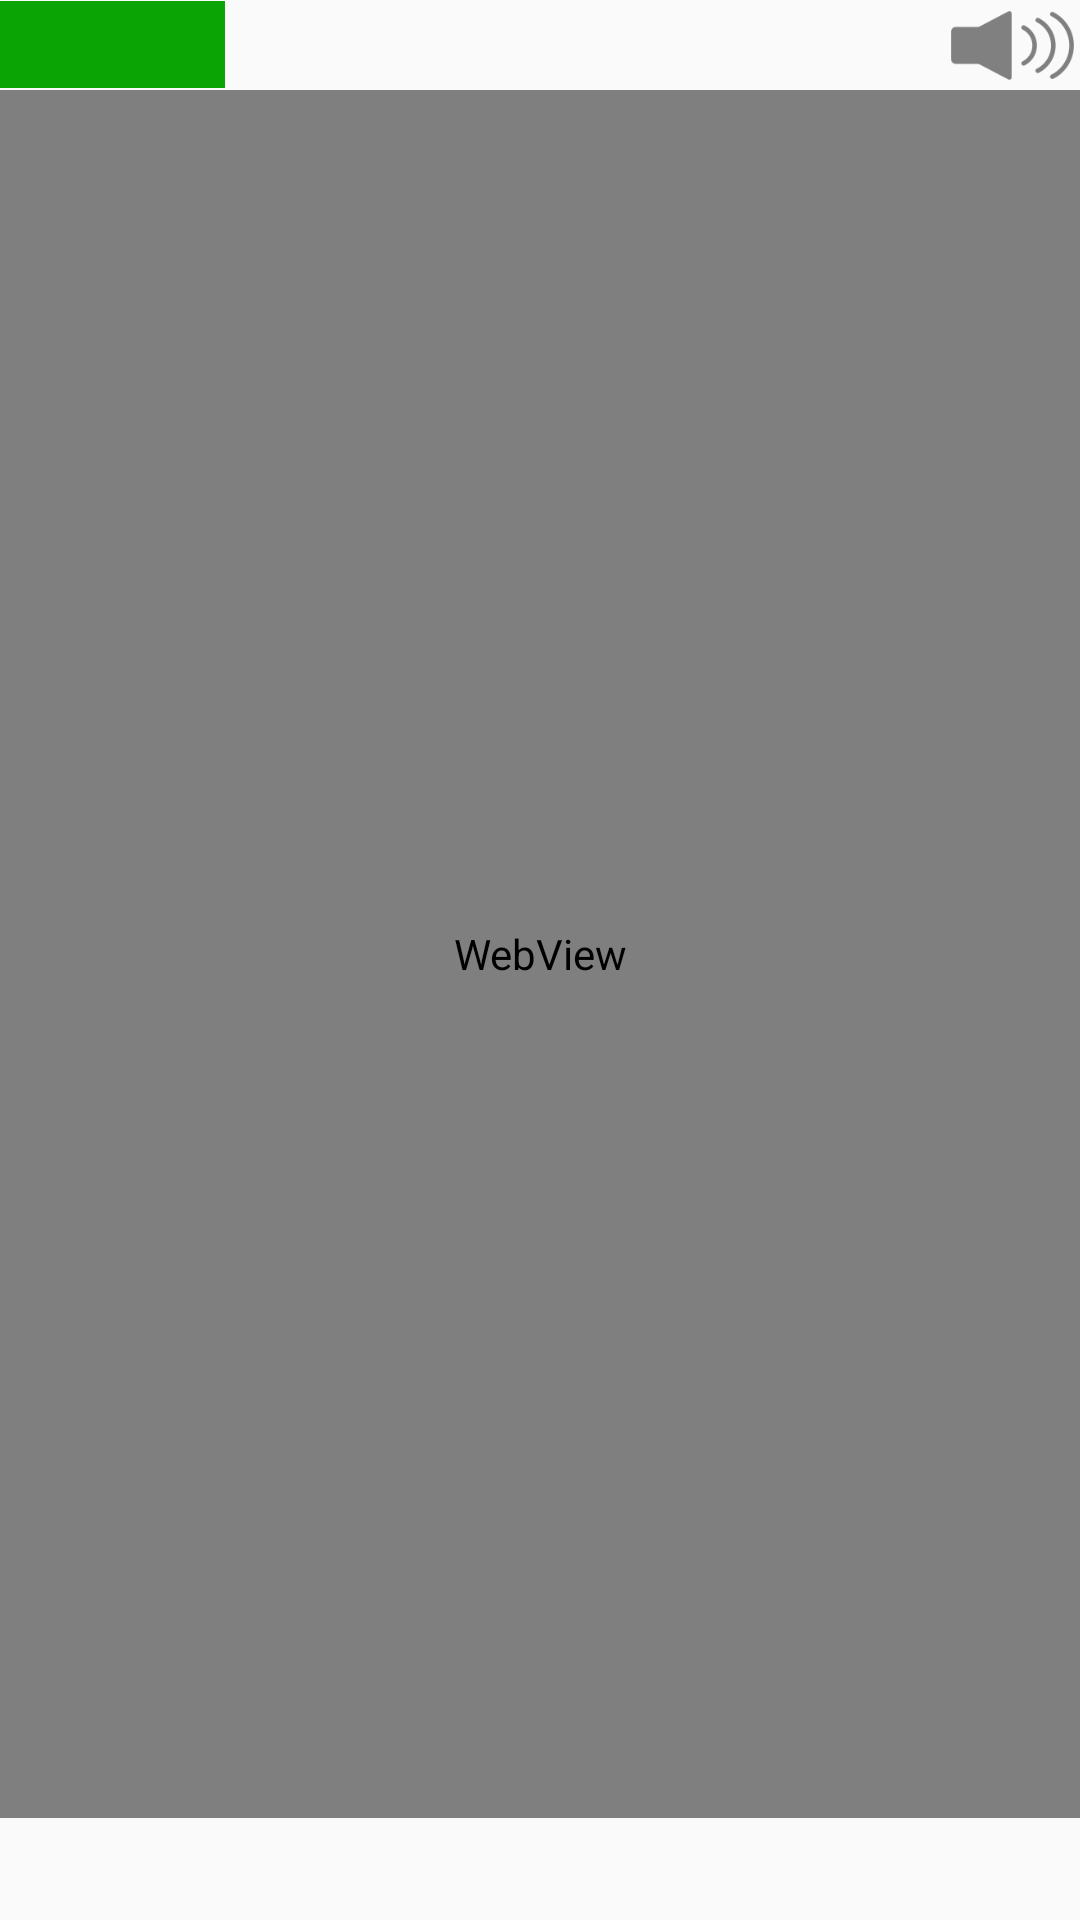

Icon bounding boxes for this 1080x1920 phone screenshot, format (x1, y1, x2, y2):
speaker: (951, 11, 1074, 80)
